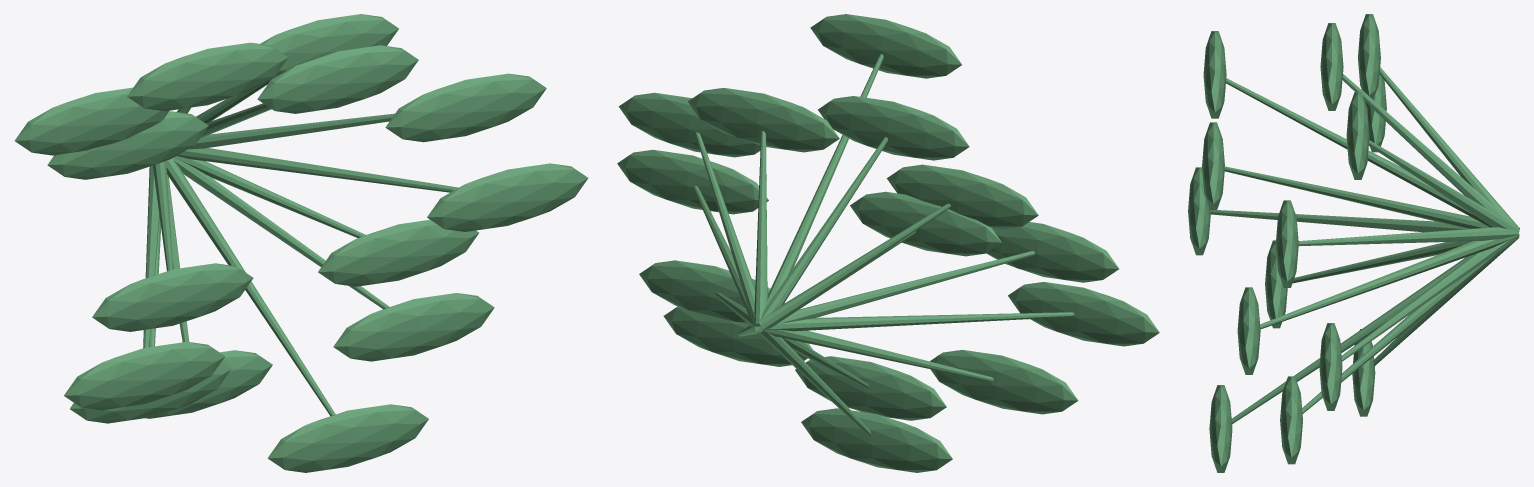
Rendered from Akariz_Plant_Grass_Tuft.glb.
The picture shows the model from 3 angles, left to right: view 1: azimuth 30°, elevation 25°; view 2: azimuth 150°, elevation 25°; view 3: azimuth 270°, elevation 25°; orthographic projection. The views are drawn at different scales.
Parts seen in each view (by area): view 1: Akariz_Plant_Grass_Tuft_leaf4, Akariz_Plant_Grass_Tuft_leaf12, Akariz_Plant_Grass_Tuft_leaf0, Akariz_Plant_Grass_Tuft_leaf3, Akariz_Plant_Grass_Tuft_leaf11, Akariz_Plant_Grass_Tuft_leaf7, Akariz_Plant_Grass_Tuft_leaf1, Akariz_Plant_Grass_Tuft_leaf8, Akariz_Plant_Grass_Tuft_leaf13, Akariz_Plant_Grass_Tuft_leaf5, Akariz_Plant_Grass_Tuft_leaf6, Akariz_Plant_Grass_Tuft_leaf2 (+12 smaller); view 2: Akariz_Plant_Grass_Tuft_leaf3, Akariz_Plant_Grass_Tuft_leaf2, Akariz_Plant_Grass_Tuft_leaf4, Akariz_Plant_Grass_Tuft_leaf10, Akariz_Plant_Grass_Tuft_leaf8, Akariz_Plant_Grass_Tuft_leaf9, Akariz_Plant_Grass_Tuft_leaf0, Akariz_Plant_Grass_Tuft_leaf5, Akariz_Plant_Grass_Tuft_leaf6, Akariz_Plant_Grass_Tuft_leaf11, Akariz_Plant_Grass_Tuft_leaf7, Akariz_Plant_Grass_Tuft_leaf1 (+13 smaller); view 3: Akariz_Plant_Grass_Tuft_stem7, Akariz_Plant_Grass_Tuft_stem0, Akariz_Plant_Grass_Tuft_stem1, Akariz_Plant_Grass_Tuft_stem3, Akariz_Plant_Grass_Tuft_stem8, Akariz_Plant_Grass_Tuft_stem4, Akariz_Plant_Grass_Tuft_stem13, Akariz_Plant_Grass_Tuft_stem11, Akariz_Plant_Grass_Tuft_stem12, Akariz_Plant_Grass_Tuft_stem2, Akariz_Plant_Grass_Tuft_leaf3, Akariz_Plant_Grass_Tuft_leaf0 (+15 smaller).
Part boxes in pixels (x1,y1,x2,y2): Akariz_Plant_Grass_Tuft_leaf4: (127,42,288,111); Akariz_Plant_Grass_Tuft_leaf12: (333,293,494,361); Akariz_Plant_Grass_Tuft_leaf0: (427,163,588,231); Akariz_Plant_Grass_Tuft_leaf3: (257,45,418,113); Akariz_Plant_Grass_Tuft_leaf11: (267,404,428,472); Akariz_Plant_Grass_Tuft_leaf7: (92,263,253,331); Akariz_Plant_Grass_Tuft_leaf1: (385,73,546,142); Akariz_Plant_Grass_Tuft_leaf8: (64,341,224,410); Akariz_Plant_Grass_Tuft_leaf13: (318,219,478,286); Akariz_Plant_Grass_Tuft_leaf5: (14,87,169,155); Akariz_Plant_Grass_Tuft_leaf6: (47,111,208,179); Akariz_Plant_Grass_Tuft_leaf2: (260,14,398,81); Akariz_Plant_Grass_Tuft_leaf3: (810,14,961,78); Akariz_Plant_Grass_Tuft_leaf2: (688,88,839,152); Akariz_Plant_Grass_Tuft_leaf4: (818,96,969,160); Akariz_Plant_Grass_Tuft_leaf10: (801,408,952,472); Akariz_Plant_Grass_Tuft_leaf8: (1008,282,1159,346); Akariz_Plant_Grass_Tuft_leaf9: (930,350,1078,414); Akariz_Plant_Grass_Tuft_leaf0: (617,149,768,214); Akariz_Plant_Grass_Tuft_leaf5: (887,164,1038,229); Akariz_Plant_Grass_Tuft_leaf6: (850,191,1001,256); Akariz_Plant_Grass_Tuft_leaf11: (795,356,946,420); Akariz_Plant_Grass_Tuft_leaf7: (986,222,1118,282); Akariz_Plant_Grass_Tuft_leaf1: (618,92,760,157); Akariz_Plant_Grass_Tuft_stem7: (1224,166,1489,228); Akariz_Plant_Grass_Tuft_stem0: (1260,231,1518,329); Akariz_Plant_Grass_Tuft_stem1: (1298,227,1519,245); Akariz_Plant_Grass_Tuft_stem3: (1226,78,1517,228); Akariz_Plant_Grass_Tuft_stem8: (1210,210,1466,232); Akariz_Plant_Grass_Tuft_stem4: (1342,74,1518,227); Akariz_Plant_Grass_Tuft_stem13: (1341,235,1518,361); Akariz_Plant_Grass_Tuft_stem11: (1231,254,1473,424); Akariz_Plant_Grass_Tuft_stem12: (1302,235,1518,413); Akariz_Plant_Grass_Tuft_stem2: (1369,140,1519,232); Akariz_Plant_Grass_Tuft_leaf3: (1203,31,1226,118); Akariz_Plant_Grass_Tuft_leaf0: (1237,287,1260,374).
Size of the model in its own units: 1.84 by 1.34 by 1.01.
